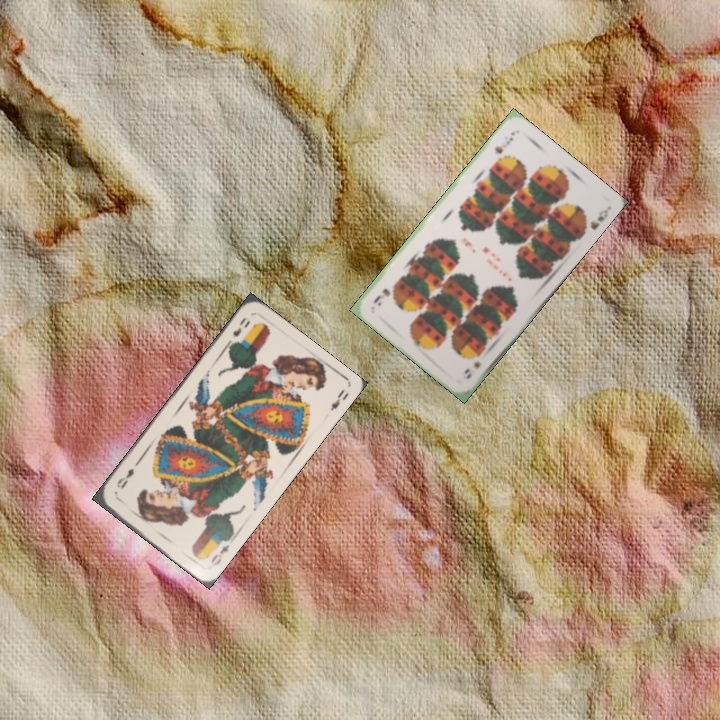EO: (224, 313, 253, 347), (206, 541, 232, 569)
S9: (490, 128, 517, 157), (460, 357, 484, 381)
